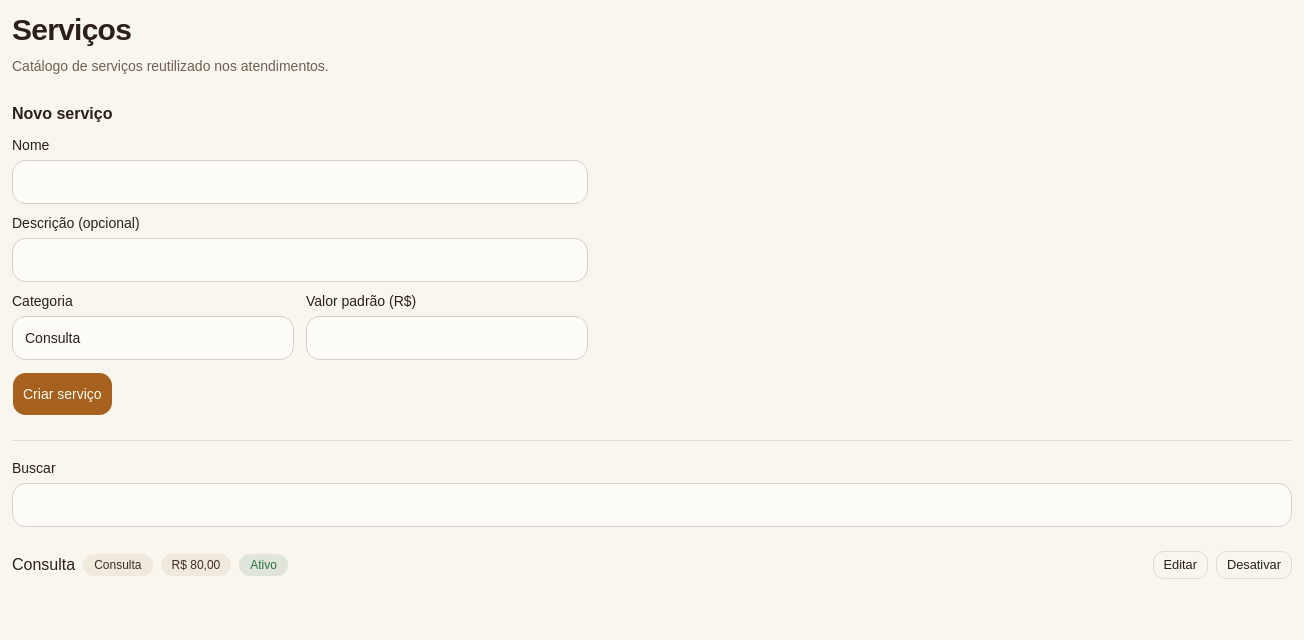
Test case: ServicesCatalogPage › bloqueia criação sem nome
The width and height of the screenshot is (1304, 640).
Type "50" into the field labelled "Valor padrão (R$)" at point(447, 338), box [306,316,588,360]
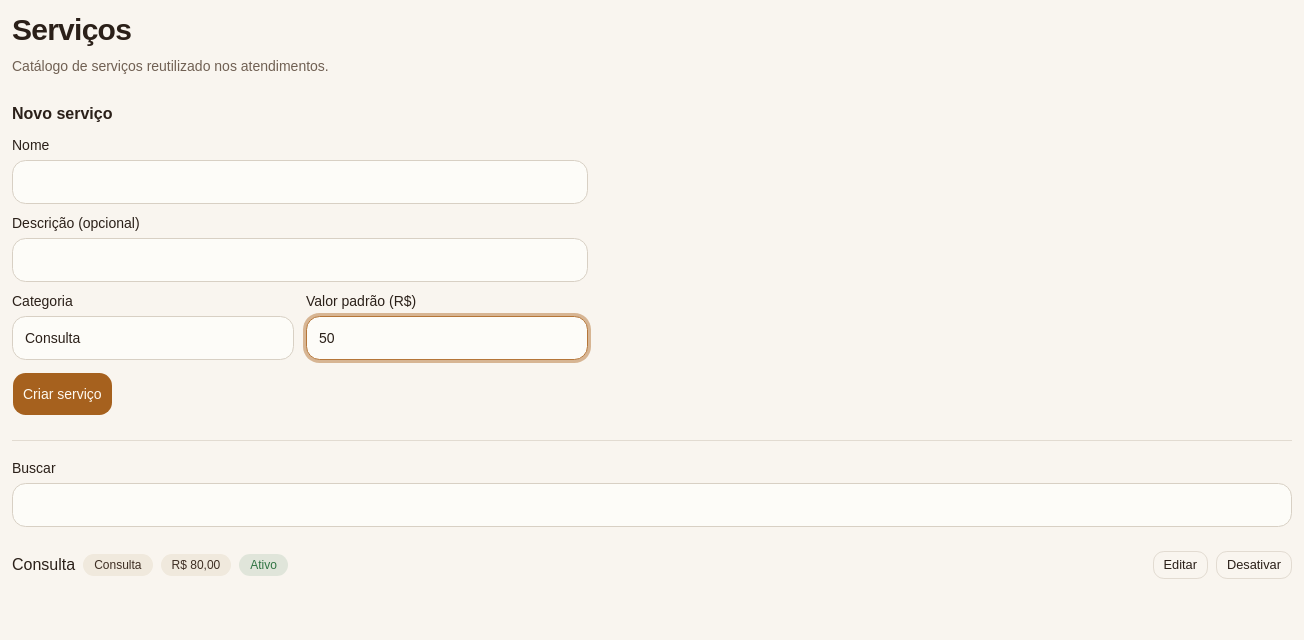
Click the button "Criar serviço" at point(62, 394), box [12,372,113,416]
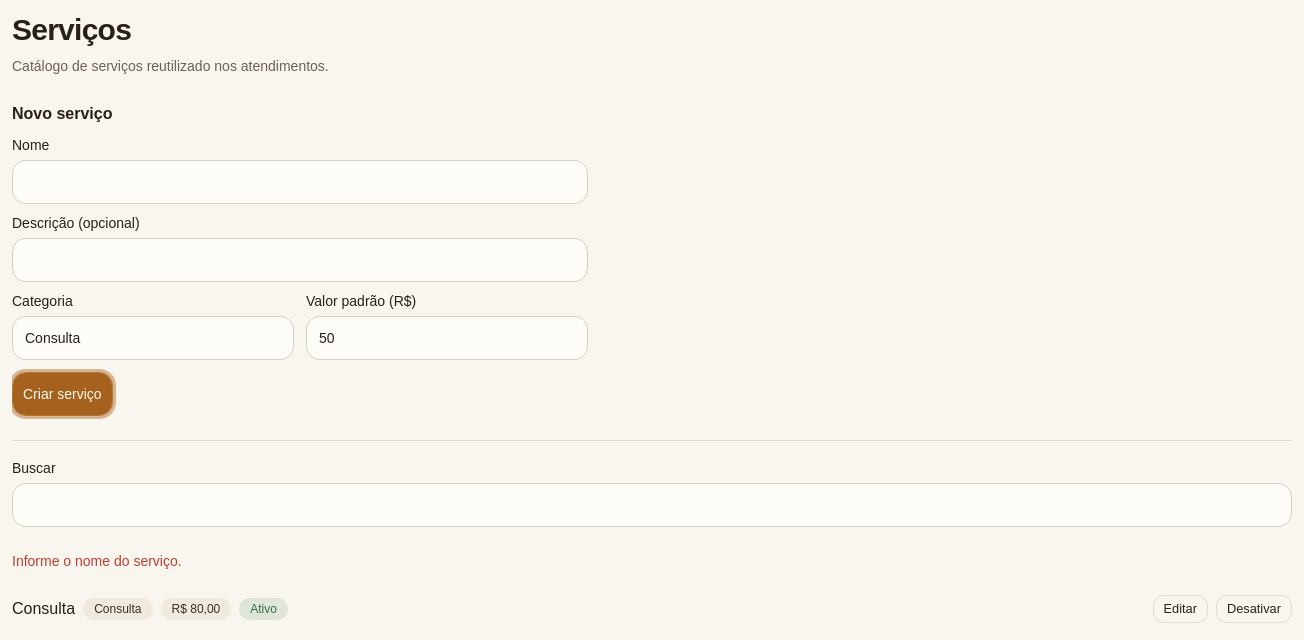
Now the text "Informe o nome do serviço." is shown, box [12,553,182,569]
